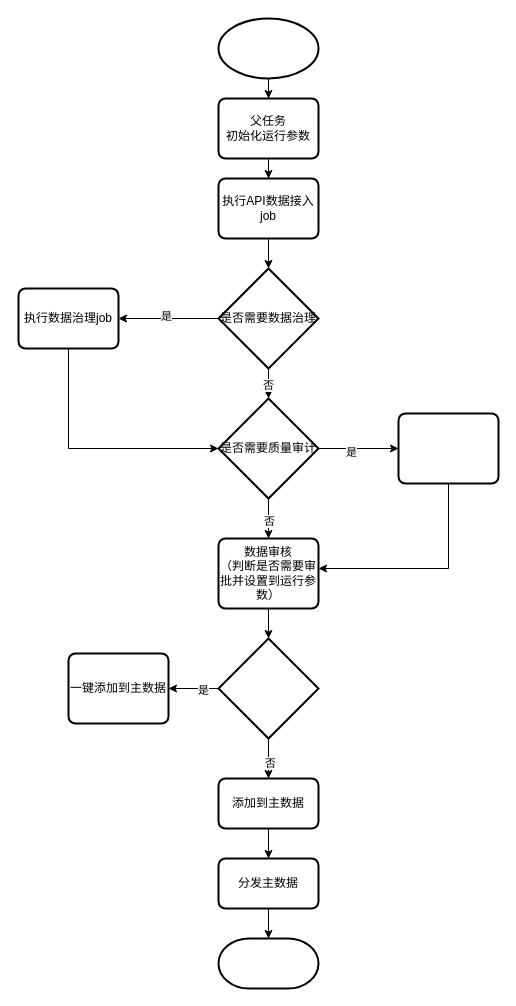
The diagram is 516 pixels wide and 1006 high, and some of its shapes have lost their labels. The centre of each missing label's shape, as x and y in pixels:
开始: (x=268, y=48)
执行质量审计job: (x=448, y=448)
是否需要审批: (x=268, y=688)
结束: (x=268, y=963)
